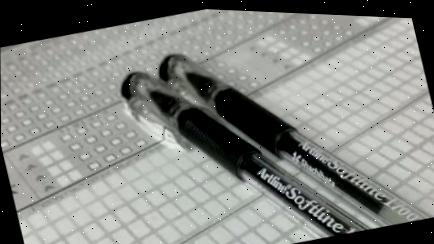pen-pencil: (121, 55, 428, 238)
